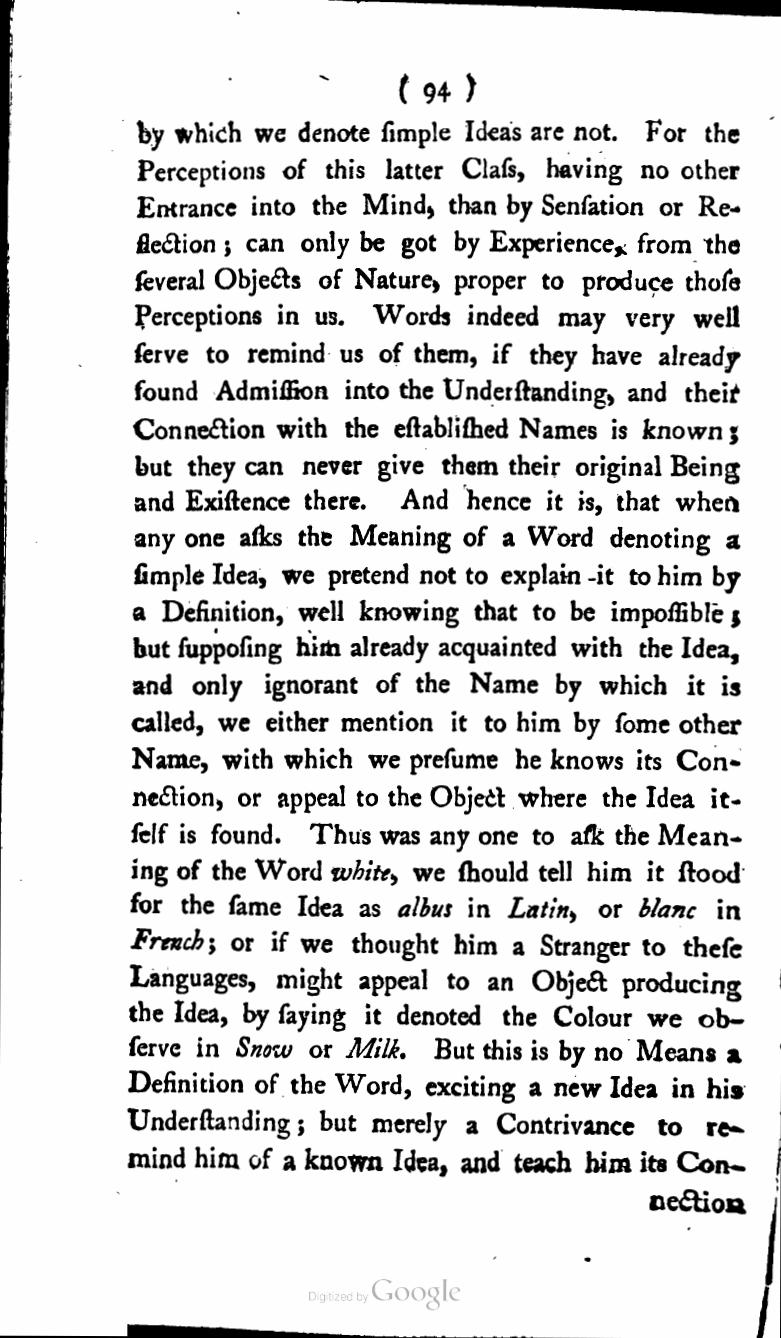catchword: (646, 1184, 753, 1221)
page_num: (395, 68, 480, 109)
top_p: (125, 115, 750, 1180)
